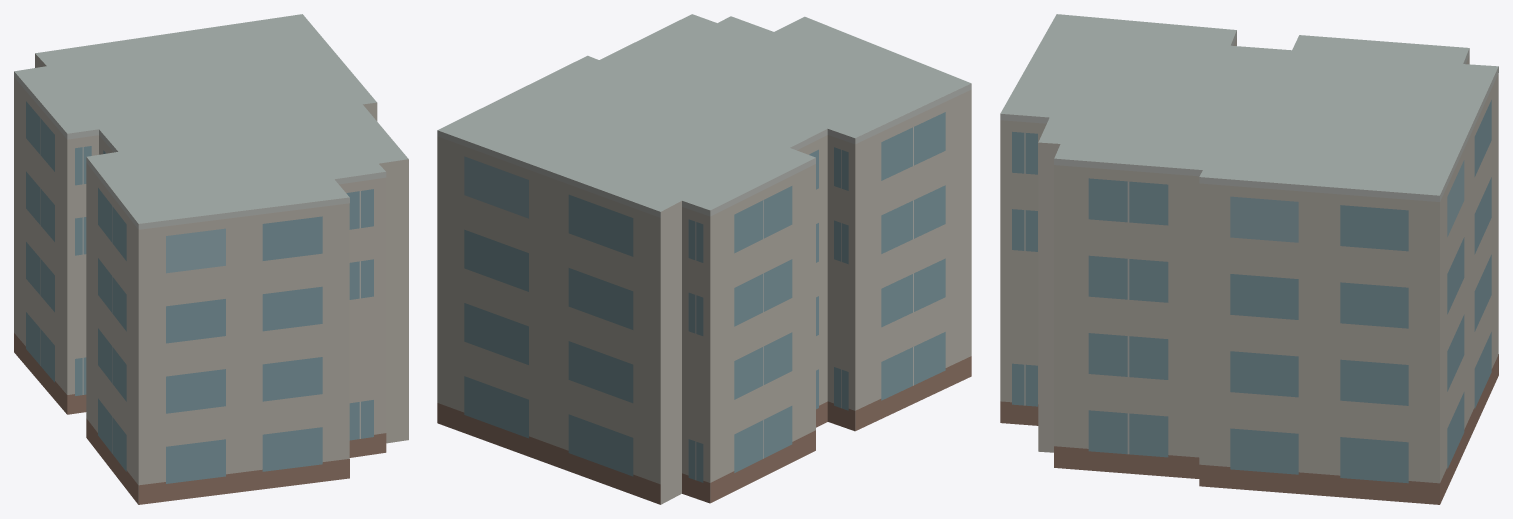
Rendered from survey-upis-32720684.glb.
3 renders of one model, left to right at view 1: azimuth 30°, elevation 25°; view 2: azimuth 150°, elevation 25°; view 3: azimuth 270°, elevation 25°, orthographic. The views are drawn at different scales.
Parts seen in each view (by area): view 1: survey-upis-32720684.tmp; view 2: survey-upis-32720684.tmp; view 3: survey-upis-32720684.tmp.
Part boxes in pixels (bbox=[...]): survey-upis-32720684.tmp: bbox=[14, 14, 408, 504]; survey-upis-32720684.tmp: bbox=[437, 14, 971, 504]; survey-upis-32720684.tmp: bbox=[1000, 14, 1498, 504].
Size of the model in its own units: 14.71 by 11.67 by 17.06.
